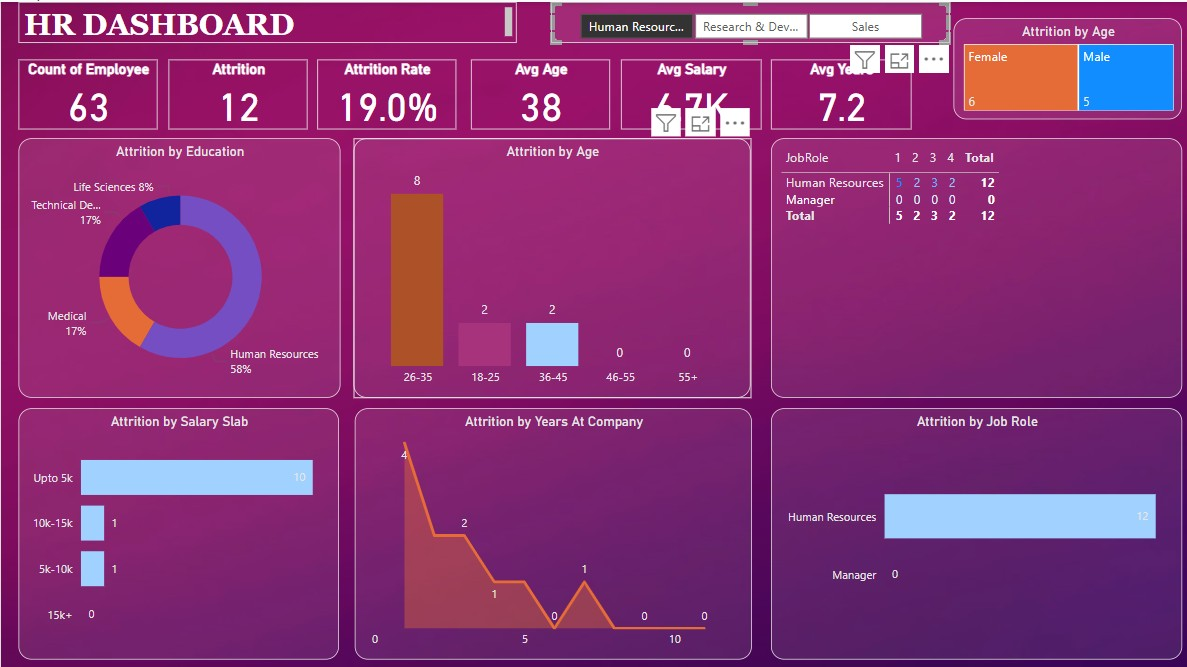

The page's visual inventory and layout, read from the dashboard file:
{"tool":"powerbi","page":{"name":"Page 1","canvas":[1280,720],"ordinal":0},"visuals":[{"type":"card","title":"Count of Employee","fields":{"Values":["CountNonNull(HR_Analytics.EmpID)"]},"box":[19.2,61.8,149.7,75.6],"z":0},{"type":"card","title":"Attrition","fields":{"Values":["Sum(HR_Analytics.AttritionCount)"]},"box":[180,61.8,149.7,75.6],"z":1000},{"type":"card","title":"Attrition Rate","fields":{"Values":["HR_Analytics.AttritionRate"]},"box":[340.7,61.8,149.7,75.6],"z":2000},{"type":"card","title":"Avg Age","fields":{"Values":["Avg(HR_Analytics.Age)"]},"box":[505.5,61.8,149.7,75.6],"z":3000},{"type":"card","title":"Avg Salary","fields":{"Values":["Avg(HR_Analytics.MonthlyIncome)"]},"box":[667.6,61.8,151.1,75.6],"z":4000},{"type":"card","title":"Avg Years","fields":{"Values":["Avg(HR_Analytics.YearsAtCompany)"]},"box":[828.3,61.8,151.1,75.6],"z":5000},{"type":"donutChart","title":"Attrition by Education","fields":{"Category":["HR_Analytics.EducationField"],"Y":["Sum(HR_Analytics.AttritionCount)"]},"box":[19.2,147,346.2,278.9],"z":6000},{"type":"columnChart","title":"Attrition by Age","fields":{"Category":["HR_Analytics.AgeGroup"],"Y":["Sum(HR_Analytics.AttritionCount)"]},"box":[379.1,147,427.2,278.9],"z":7000},{"type":"pivotTable","fields":{"Rows":["HR_Analytics.JobRole"],"Columns":["HR_Analytics.JobSatisfaction"],"Values":["Sum(HR_Analytics.AttritionCount)"]},"box":[828.3,147,442.3,278.9],"z":8000},{"type":"barChart","title":"Attrition by Salary Slab","fields":{"Category":["HR_Analytics.SalarySlab"],"Y":["Sum(HR_Analytics.AttritionCount)"]},"box":[19.2,436.8,344.8,270.6],"z":9000},{"type":"barChart","title":"Attrition by Job Role","fields":{"Category":["HR_Analytics.JobRole"],"Y":["Sum(HR_Analytics.AttritionCount)"]},"box":[828.3,436.8,442.3,270.6],"z":10000},{"type":"areaChart","title":"Attrition by Years At Company","fields":{"Category":["HR_Analytics.YearsAtCompany"],"Y":["Sum(HR_Analytics.AttritionCount)"]},"box":[380.5,436.8,427.2,270.6],"z":11000},{"type":"treemap","title":"Attrition by Age","fields":{"Group":["HR_Analytics.Gender"],"Values":["Sum(HR_Analytics.AttritionCount)"]},"box":[1024.8,17.9,245.9,108.5],"z":12000},{"type":"slicer","fields":{"Values":["HR_Analytics.Department"]},"box":[592.1,0,428.6,44],"z":13000},{"type":"textbox","box":[19.2,0,535.7,44],"z":14000}]}

Visuals, with their boxes in screenshot pixels (x1, y1, x2, y2), scaled from the page's 1280x720 canvas onto the 1187x667 screenshot:
"Count of Employee" card: [left=18, top=57, right=157, bottom=127]
"Attrition" card: [left=167, top=57, right=306, bottom=127]
"Attrition Rate" card: [left=316, top=57, right=455, bottom=127]
"Avg Age" card: [left=469, top=57, right=608, bottom=127]
"Avg Salary" card: [left=619, top=57, right=759, bottom=127]
"Avg Years" card: [left=768, top=57, right=908, bottom=127]
"Attrition by Education" donutChart: [left=18, top=136, right=339, bottom=395]
"Attrition by Age" columnChart: [left=352, top=136, right=748, bottom=395]
pivotTable - HR_Analytics.JobRole x HR_Analytics.JobSatisfaction: [left=768, top=136, right=1178, bottom=395]
"Attrition by Salary Slab" barChart: [left=18, top=405, right=338, bottom=655]
"Attrition by Job Role" barChart: [left=768, top=405, right=1178, bottom=655]
"Attrition by Years At Company" areaChart: [left=353, top=405, right=749, bottom=655]
"Attrition by Age" treemap: [left=950, top=17, right=1178, bottom=117]
slicer - HR_Analytics.Department: [left=549, top=0, right=947, bottom=41]
textbox: [left=18, top=0, right=515, bottom=41]
